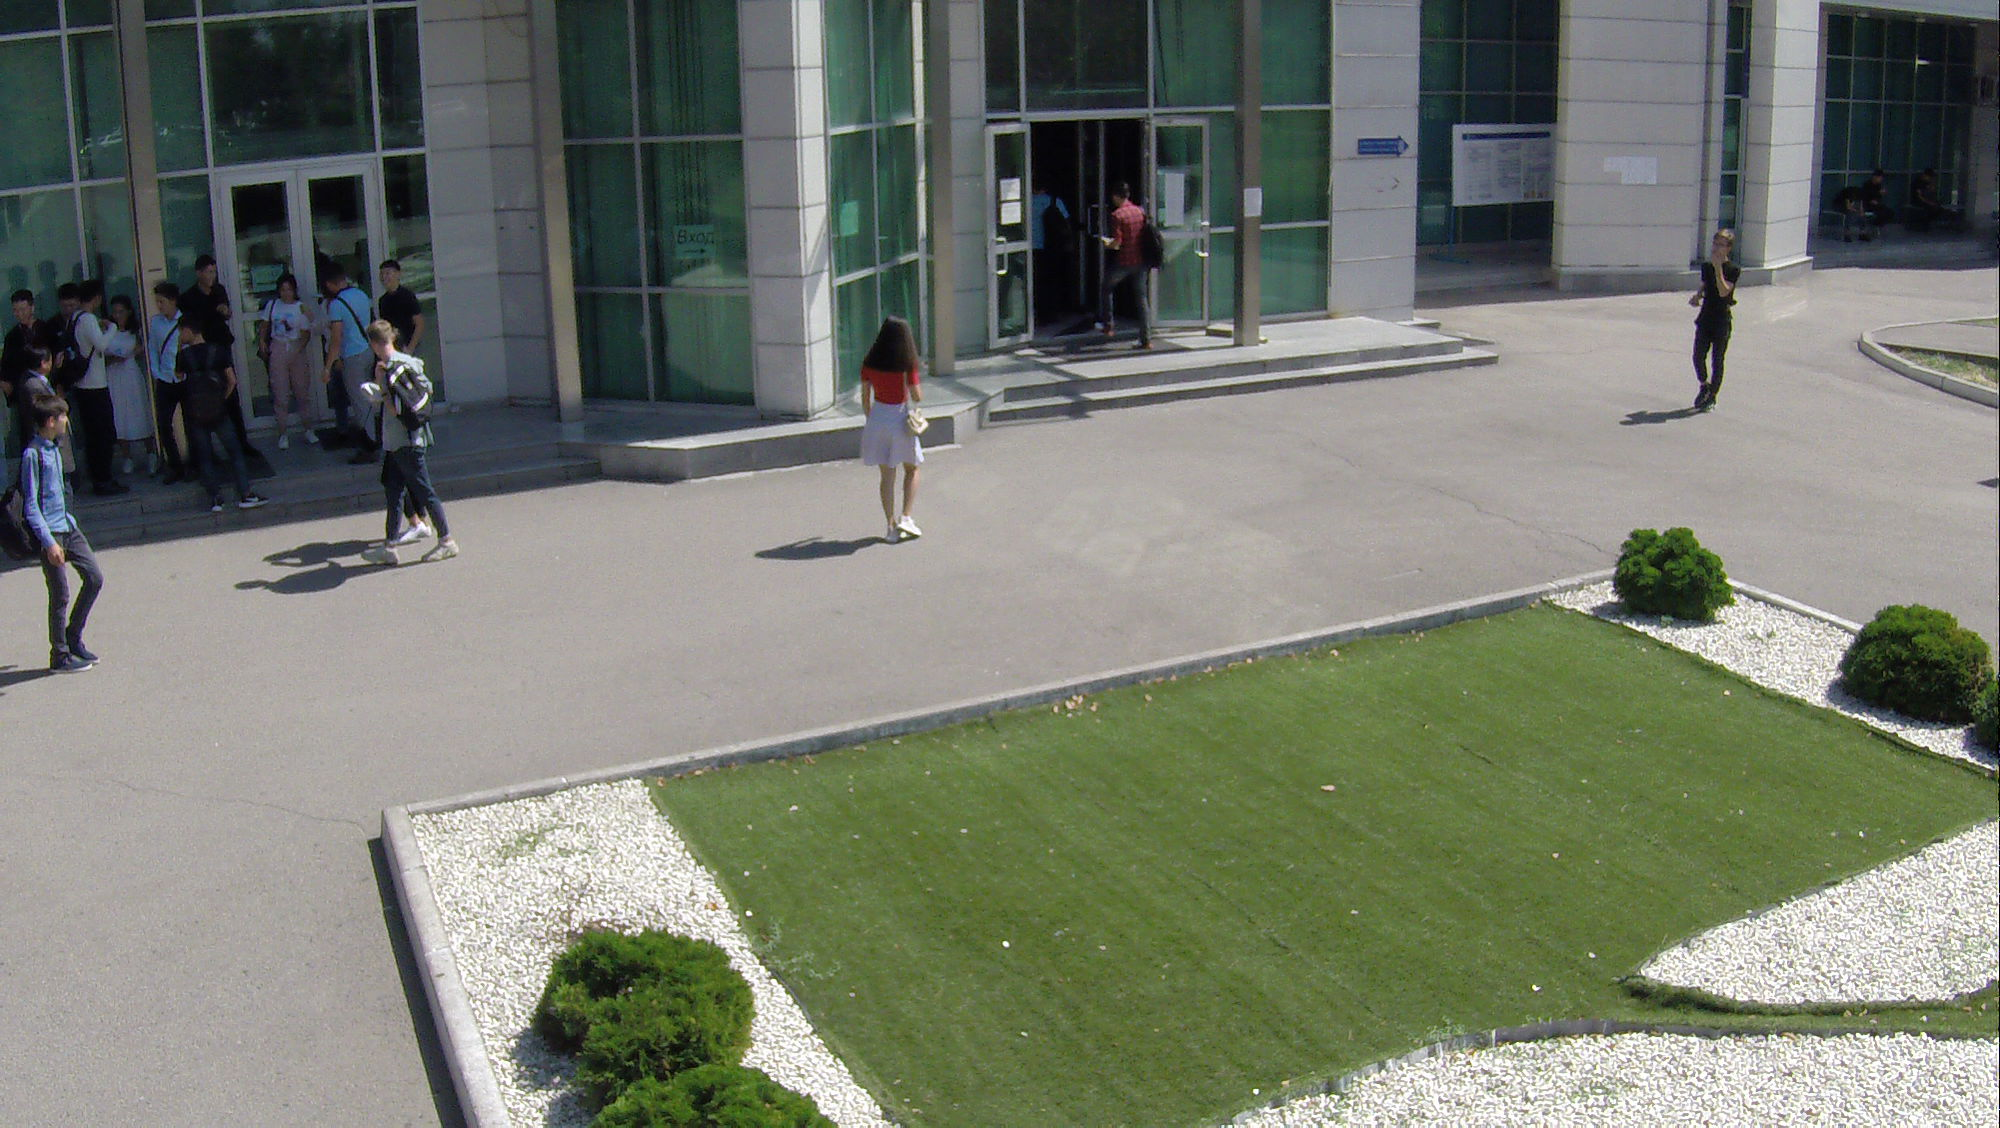person: (7, 395, 107, 679), (358, 313, 462, 575), (175, 301, 270, 525), (853, 312, 934, 562), (1089, 178, 1163, 356), (1679, 220, 1742, 413), (258, 274, 318, 461), (322, 260, 377, 464), (142, 268, 186, 493), (109, 286, 150, 475), (77, 289, 111, 508), (371, 252, 421, 357), (3, 288, 41, 366), (188, 251, 226, 312)
